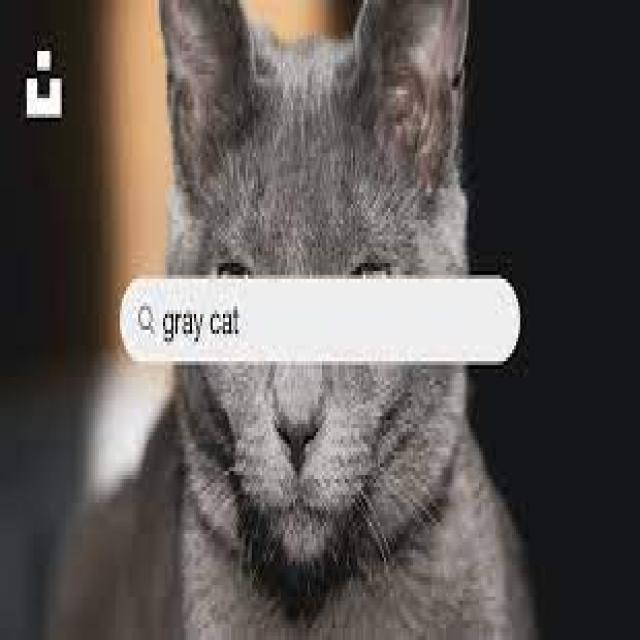Cat: (155, 0, 536, 640)
